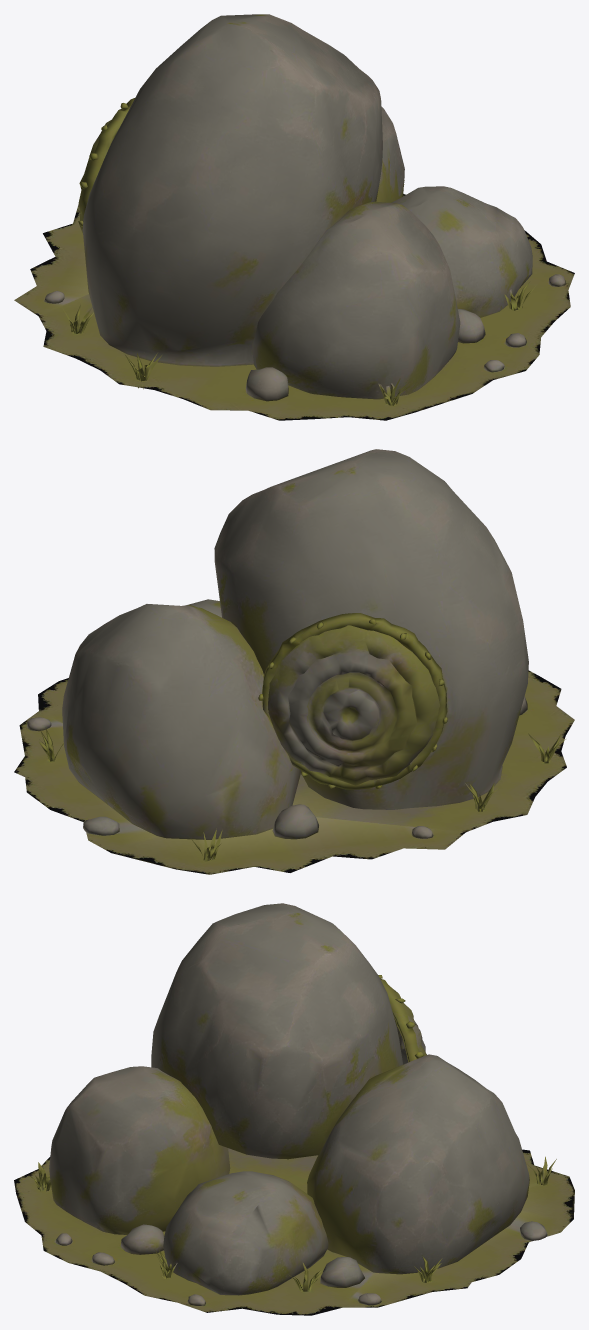
Rendered from rock_833dfd1c.glb.
3 views of the same model, one above another, from view 1: azimuth 30°, elevation 25°; view 2: azimuth 150°, elevation 25°; view 3: azimuth 270°, elevation 25° (orthographic). The views are drawn at different scales.
Parts seen in each view (by area): view 1: tripo_node_6d70c1a1-86e9-47c0-a7bc-620571893f57; view 2: tripo_node_6d70c1a1-86e9-47c0-a7bc-620571893f57; view 3: tripo_node_6d70c1a1-86e9-47c0-a7bc-620571893f57.
Boxes of the visible parts, x1,y1,x2,y2 form: tripo_node_6d70c1a1-86e9-47c0-a7bc-620571893f57: (14,14,574,420); tripo_node_6d70c1a1-86e9-47c0-a7bc-620571893f57: (14,449,574,874); tripo_node_6d70c1a1-86e9-47c0-a7bc-620571893f57: (14,903,574,1315).
Size of the model in its own units: 0.916 by 0.541 by 0.998.
Materials: 1 (1 with a texture image).
